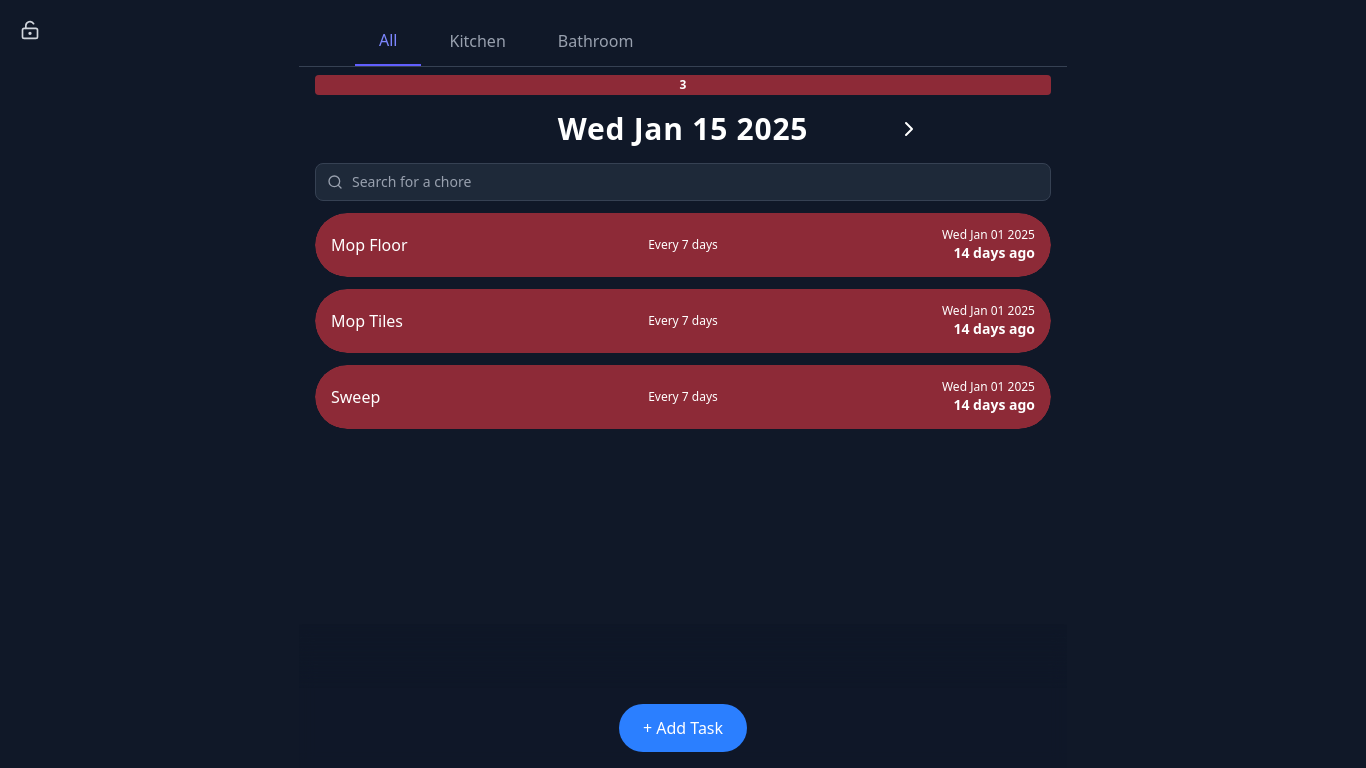
Test case: chore-name search filter (F9) › ANDs the substring filter with the room filter
Expected: the text "Mop Floor" is shown, [331, 234, 408, 256]
Note: Select the Kitchen room tab
Click the button "Kitchen" at (478, 41), box [426, 16, 530, 66]
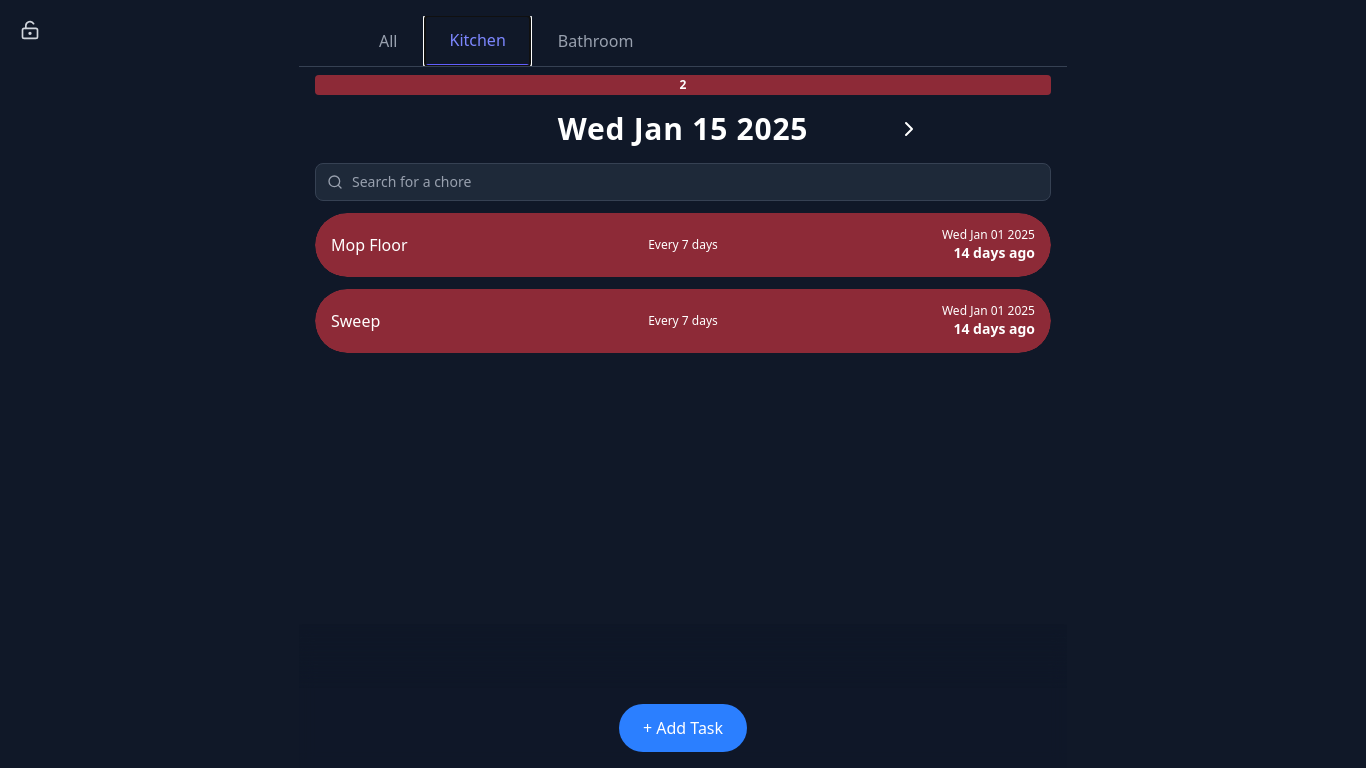
Note: Search for "mop" — only the Kitchen "Mop Floor" should remain
Type "mop" into the field with placeholder "Search for a chore" at (683, 182), box [315, 163, 1051, 201]
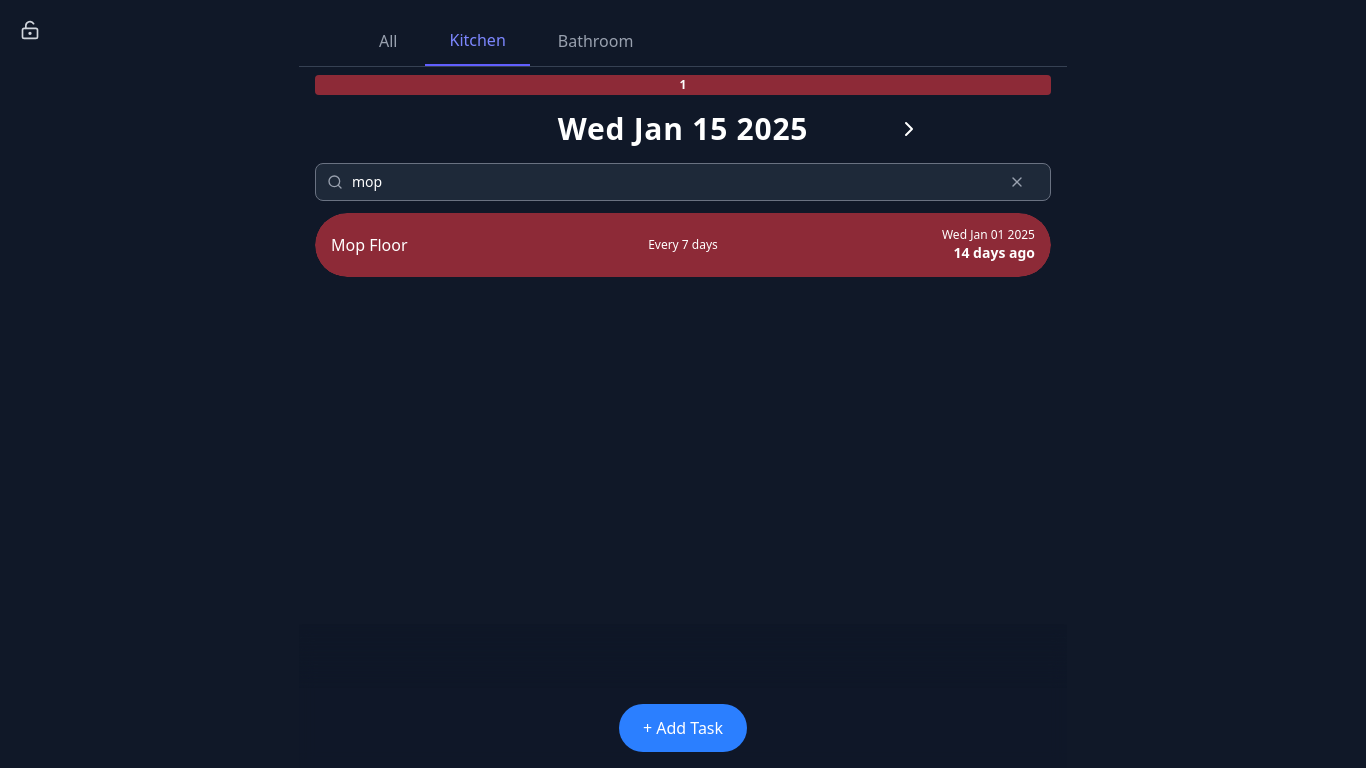
Expected: the text "Mop Floor" is shown, [331, 234, 408, 256]
Result: the text "Sweep" is gone
